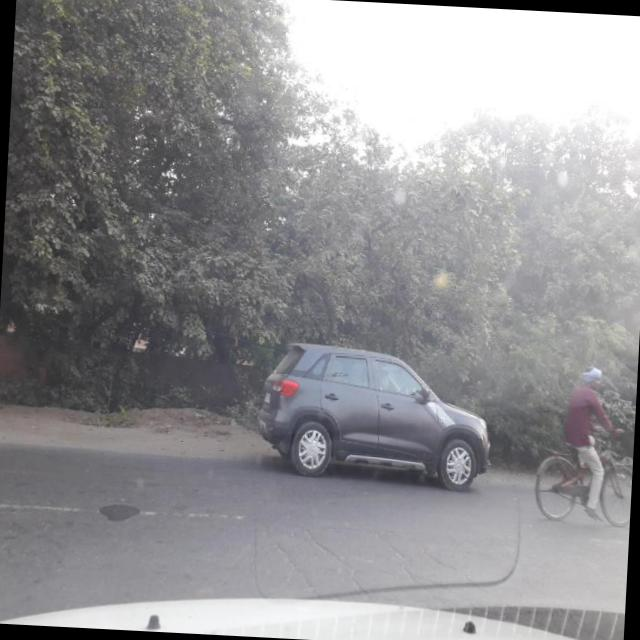crack: (242, 490, 524, 604)
